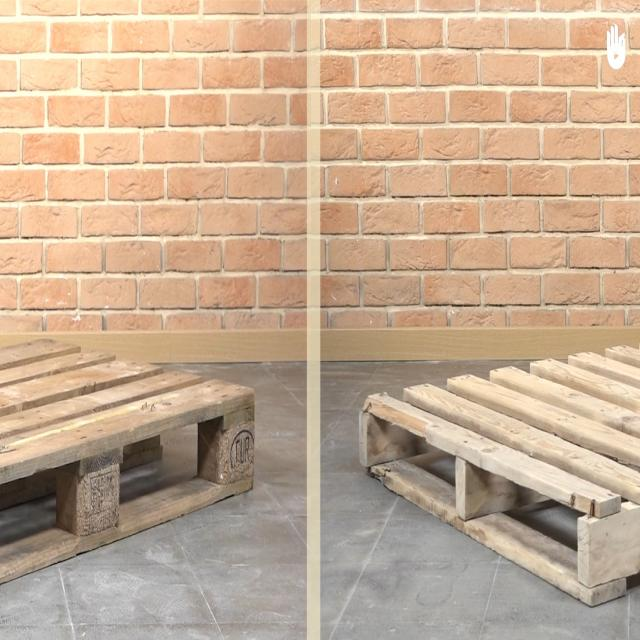Palette: (361, 347, 640, 612), (0, 329, 257, 597)
